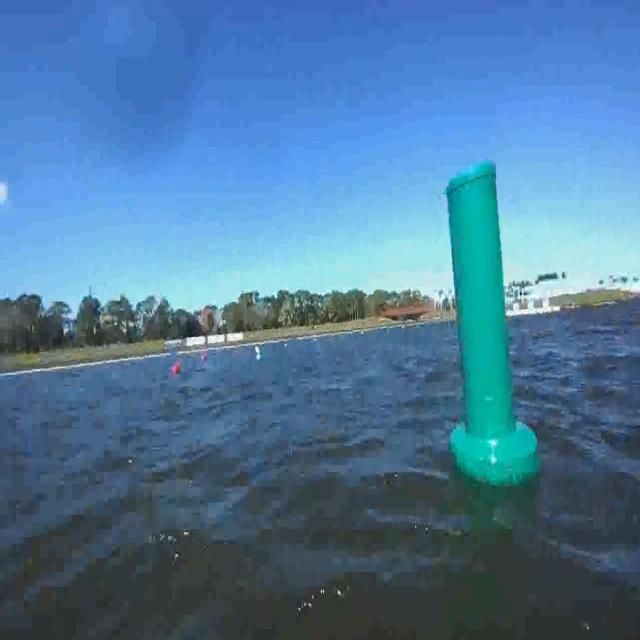green-buoy: (256, 352, 263, 362)
green-column-buoy: (445, 162, 538, 489)
red-buoy: (174, 362, 182, 373), (202, 353, 207, 362)
